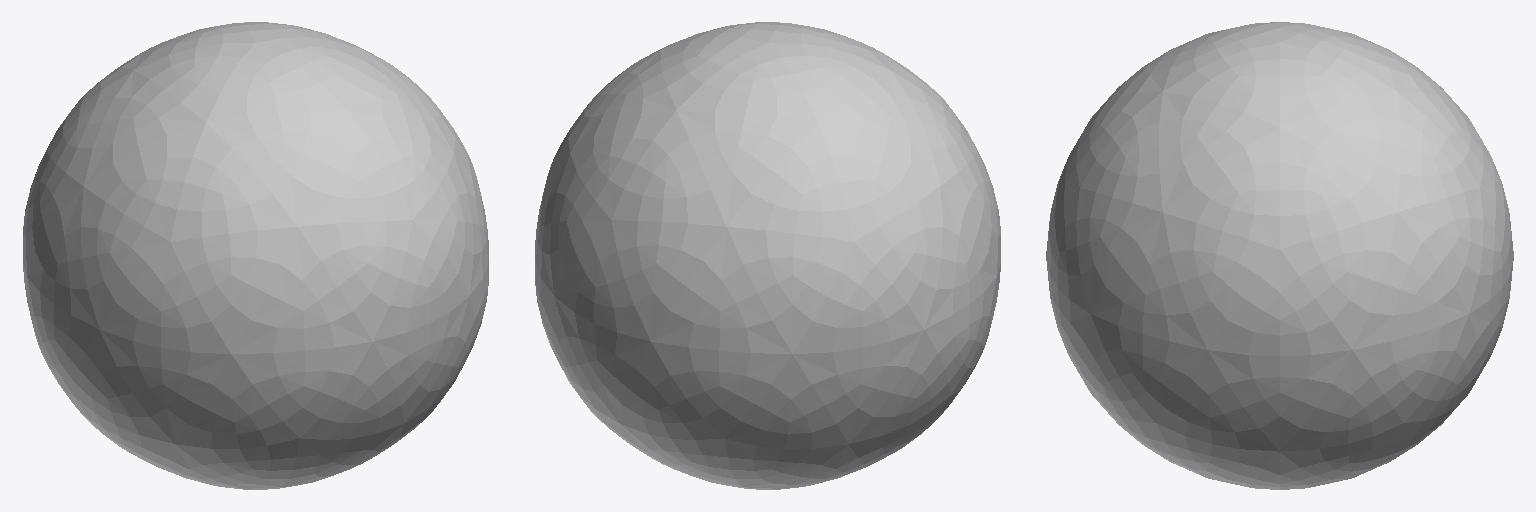
Rendered from moon.obj.
3 renders of one model, left to right at view 1: azimuth 30°, elevation 25°; view 2: azimuth 150°, elevation 25°; view 3: azimuth 270°, elevation 25°, orthographic.
Visible parts, largest first — view 1: Icosphere; view 2: Icosphere; view 3: Icosphere.
Part boxes in pixels (left/top/right/bottom): Icosphere: left=23, top=22, right=488, bottom=489; Icosphere: left=535, top=22, right=1000, bottom=489; Icosphere: left=1046, top=22, right=1513, bottom=489.
Bounding box in the file's own units: 28.91 × 29.12 × 28.95.